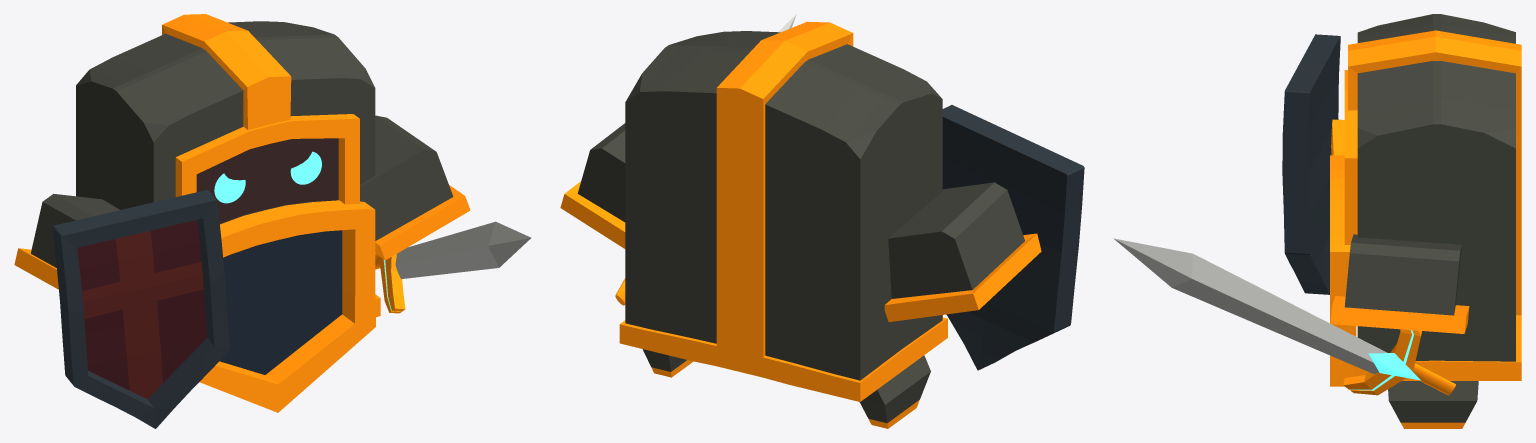
File: Sketchfab_2022_01_07_12_13_27.fbx
3 renders of one model, left to right at view 1: azimuth 30°, elevation 25°; view 2: azimuth 150°, elevation 25°; view 3: azimuth 270°, elevation 25°, orthographic. The views are drawn at different scales.
Visible parts, largest first — view 1: Body, Shield, Armor, Shoulders, Blade, Eyes, Handle Bar; view 2: Body, Shield, Shoulders, Legs; view 3: Body, Shield, Shoulders, Blade, Legs, Armor, Handle Bar, Diamond, Handle.
Part boxes in pixels (box(x1,y1,x2,y2)): Body: box(76, 14, 380, 316); Shield: box(52, 189, 229, 428); Armor: box(199, 200, 375, 412); Shoulders: box(14, 115, 470, 289); Blade: box(395, 221, 531, 278); Eyes: box(214, 151, 321, 203); Handle Bar: box(379, 254, 405, 313); Body: box(619, 21, 947, 401); Shield: box(942, 105, 1084, 370); Shoulders: box(560, 123, 1041, 321); Legs: box(642, 349, 930, 428); Body: box(1344, 14, 1521, 380); Shield: box(1282, 34, 1340, 294); Shoulders: box(1330, 119, 1469, 333); Blade: box(1113, 238, 1387, 374); Legs: box(1388, 381, 1478, 428); Armor: box(1330, 155, 1356, 386); Handle Bar: box(1343, 329, 1421, 395); Diamond: box(1368, 353, 1420, 380); Handle: box(1413, 363, 1455, 395).
Bounding box in the file's own units: 362 × 281 × 298.
